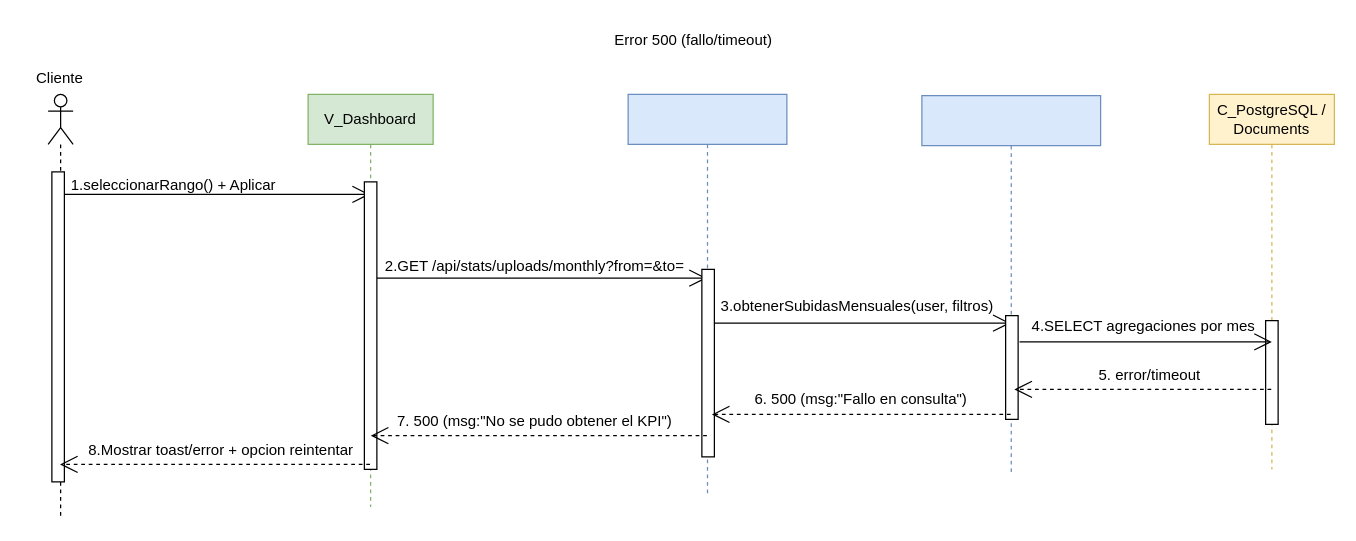
This 1356x541 diagram has some shape labels left out. The centre of each missing label's shape, as x and y in pixels:
"C_api(Gateway)" belongs at [707,293].
"C_stats (Backend)" belongs at [1011,283].
